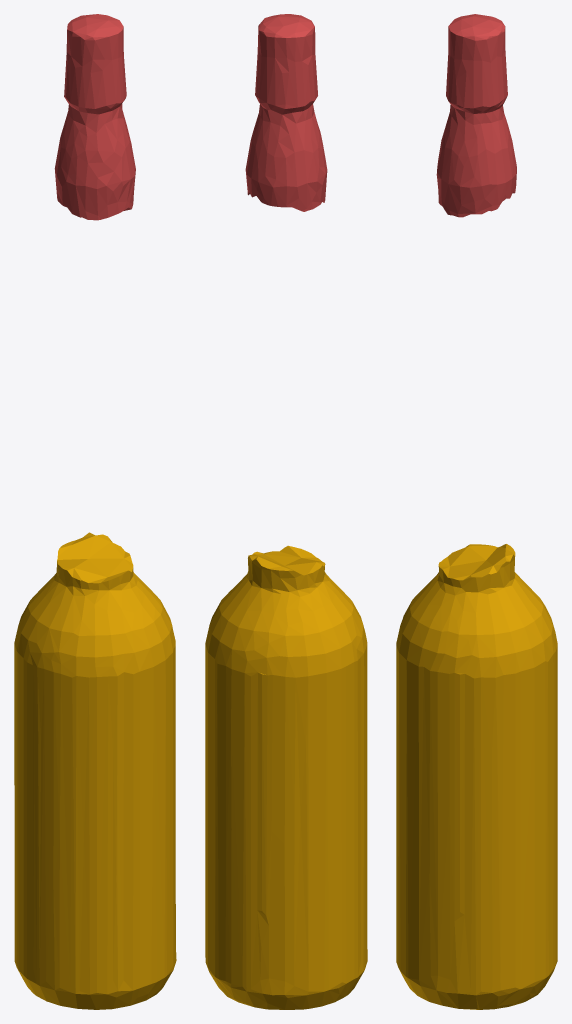
The model's file is mode_1_2pcs_transformed.glb.
3 views of the same model, side by side, from view 1: azimuth 30°, elevation 25°; view 2: azimuth 150°, elevation 25°; view 3: azimuth 270°, elevation 25° (orthographic).
Visible parts, largest first — view 1: piece_0.obj, piece_1.obj; view 2: piece_0.obj, piece_1.obj; view 3: piece_0.obj, piece_1.obj.
Boxes of the visible parts, x1=… form: piece_0.obj: x1=14, y1=532, x2=176, y2=1009; piece_1.obj: x1=54, y1=14, x2=135, y2=220; piece_0.obj: x1=205, y1=545, x2=367, y2=1009; piece_1.obj: x1=245, y1=14, x2=327, y2=211; piece_0.obj: x1=396, y1=544, x2=557, y2=1009; piece_1.obj: x1=436, y1=14, x2=516, y2=217.
Bounding box in the file's own units: 0.242 × 1.6 × 0.2421.
